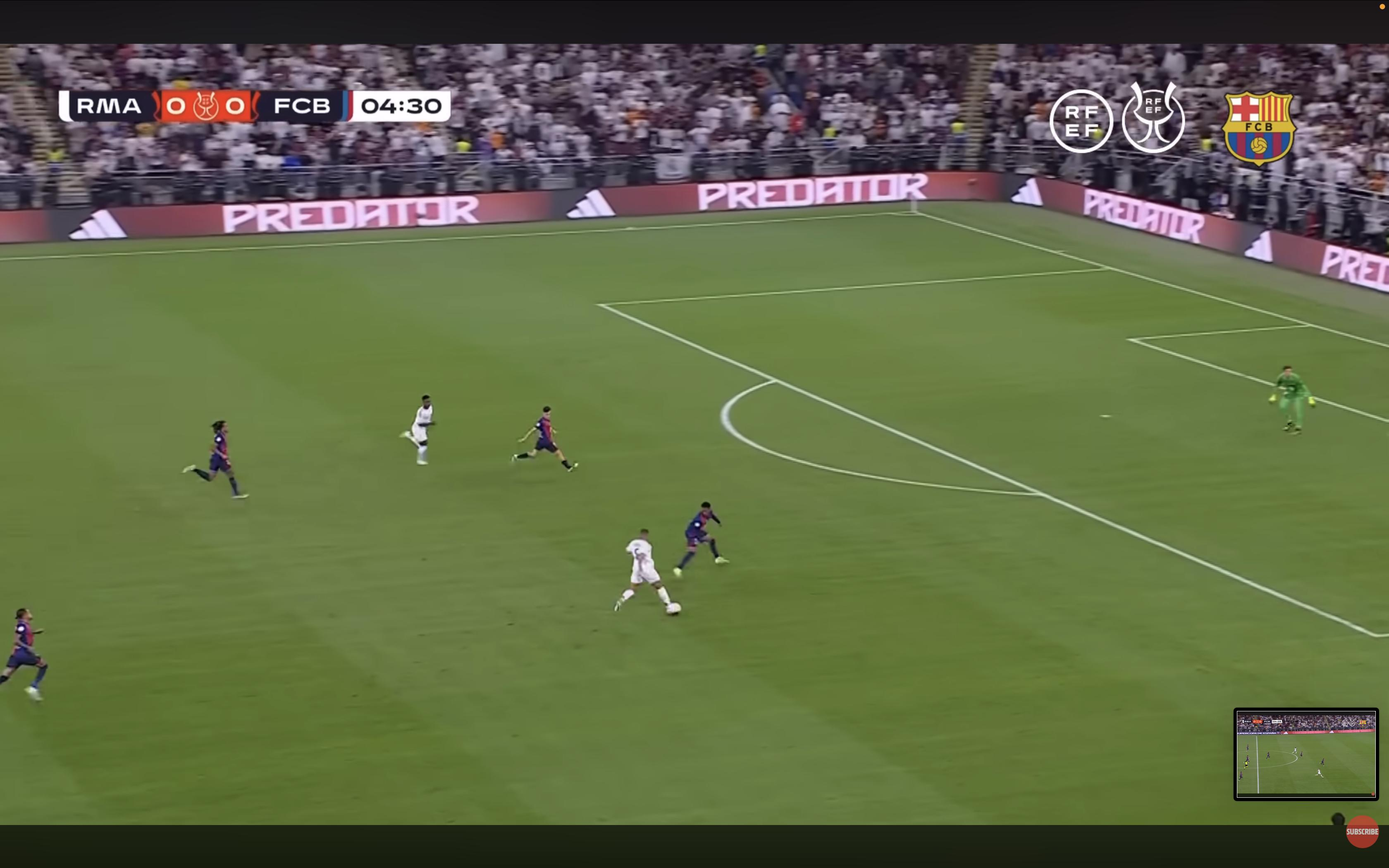ball: (665, 602, 682, 615)
goalkeeper: (1269, 366, 1315, 434)
player: (614, 529, 680, 614), (183, 420, 247, 499), (0, 608, 48, 701), (512, 406, 576, 471), (674, 501, 728, 577), (400, 395, 434, 465)
